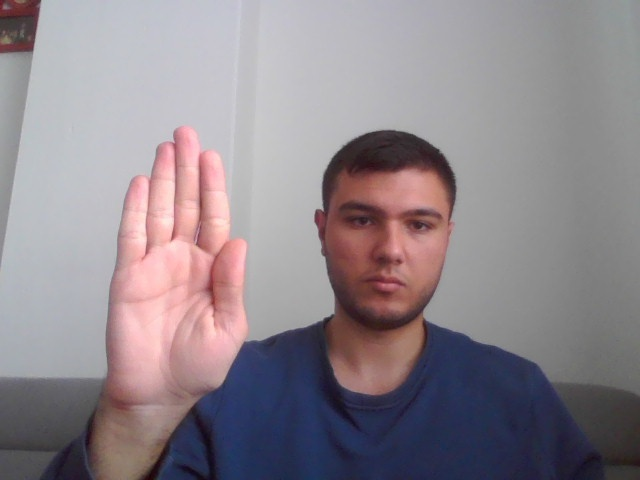Hello: (103, 125, 251, 402)
